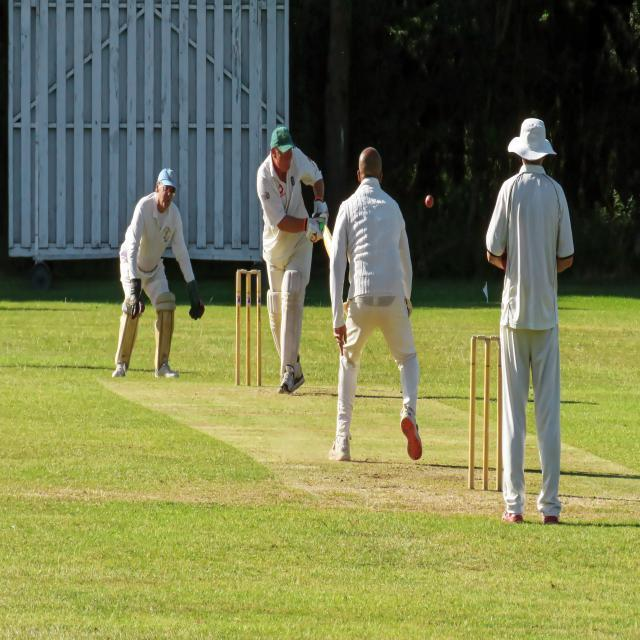stumps: (469, 333, 503, 496), (232, 264, 264, 390)
